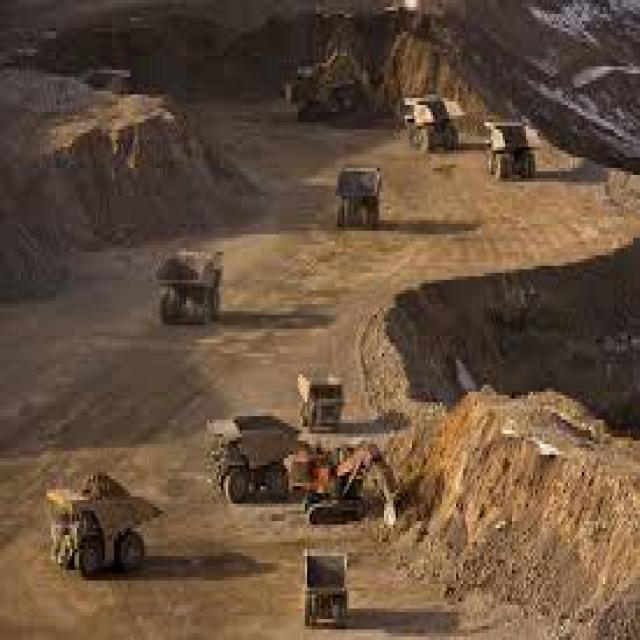dump_truck: (35, 423, 177, 574), (189, 406, 293, 510), (146, 231, 232, 336), (288, 525, 361, 633), (391, 74, 477, 164), (474, 105, 544, 189), (330, 150, 391, 242), (293, 353, 354, 434)
excavator: (286, 427, 410, 542)
